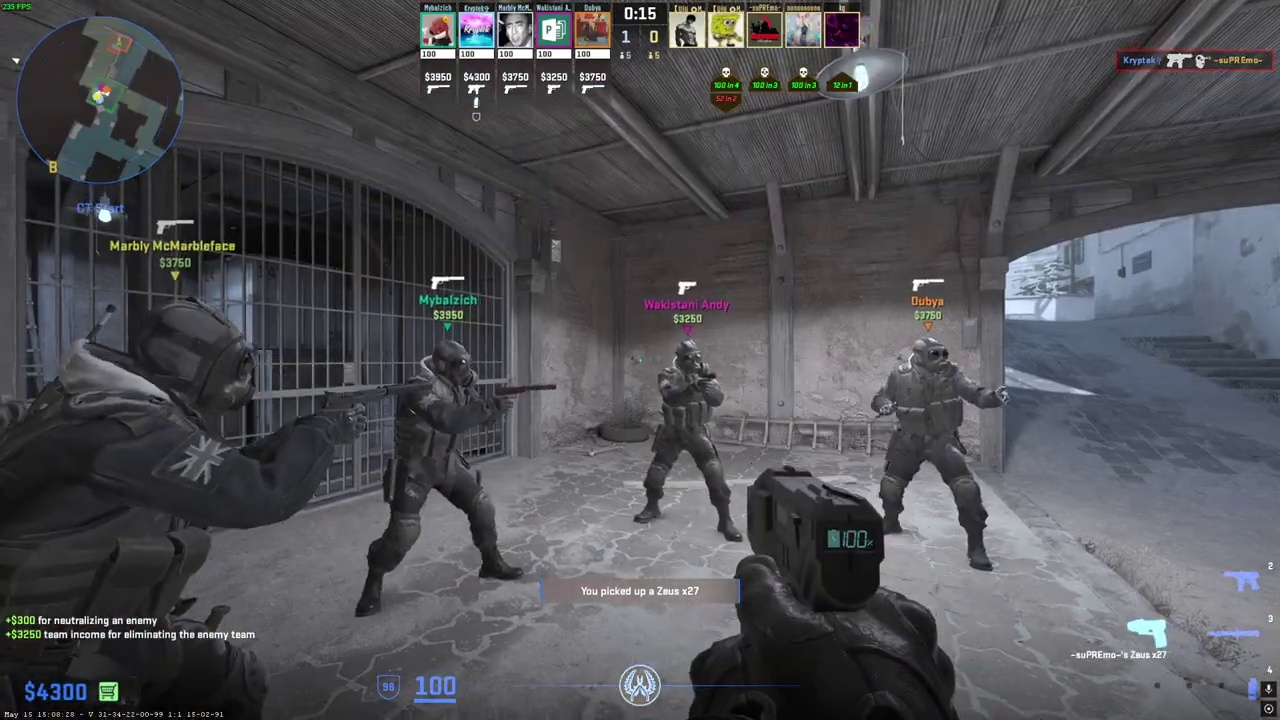CT: (0, 297, 287, 720), (373, 339, 525, 610), (877, 336, 999, 571), (637, 341, 742, 541)
